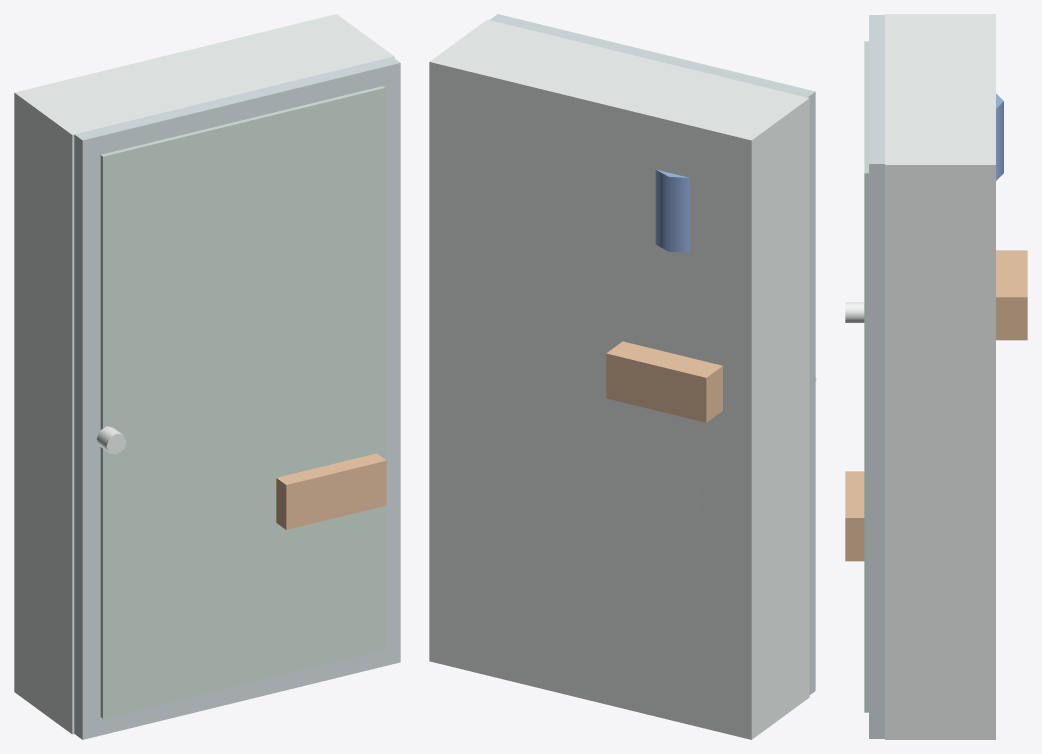
The model's file is mirrorCabinetSlim.glb.
3 renders of one model, left to right at view 1: azimuth 30°, elevation 25°; view 2: azimuth 150°, elevation 25°; view 3: azimuth 270°, elevation 25°, orthographic. The views are drawn at different scales.
Parts seen in each view (by area): view 1: anim:door, mirrorCabinetSlim, anim:interior; view 2: mirrorCabinetSlim, anim:interior, anim:door; view 3: mirrorCabinetSlim, anim:door, anim:interior.
Boxes of the visible parts, x1,y1,x2,y2 form: anim:door: (74,57,400,739); mirrorCabinetSlim: (14,14,394,734); anim:interior: (276,453,386,529); mirrorCabinetSlim: (429,19,809,739); anim:interior: (606,169,722,555); anim:door: (490,14,816,694); mirrorCabinetSlim: (885,14,995,739); anim:door: (845,15,884,738); anim:interior: (845,93,1027,561).
Size of the model in its own units: 0.225 by 0.4 by 0.115.
